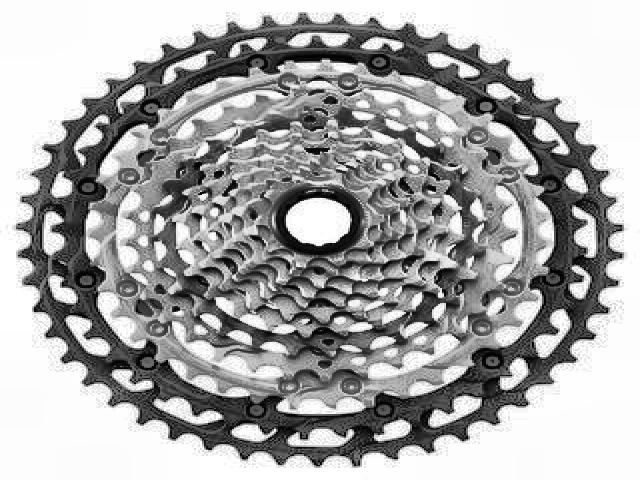cassette: (11, 10, 624, 471)
